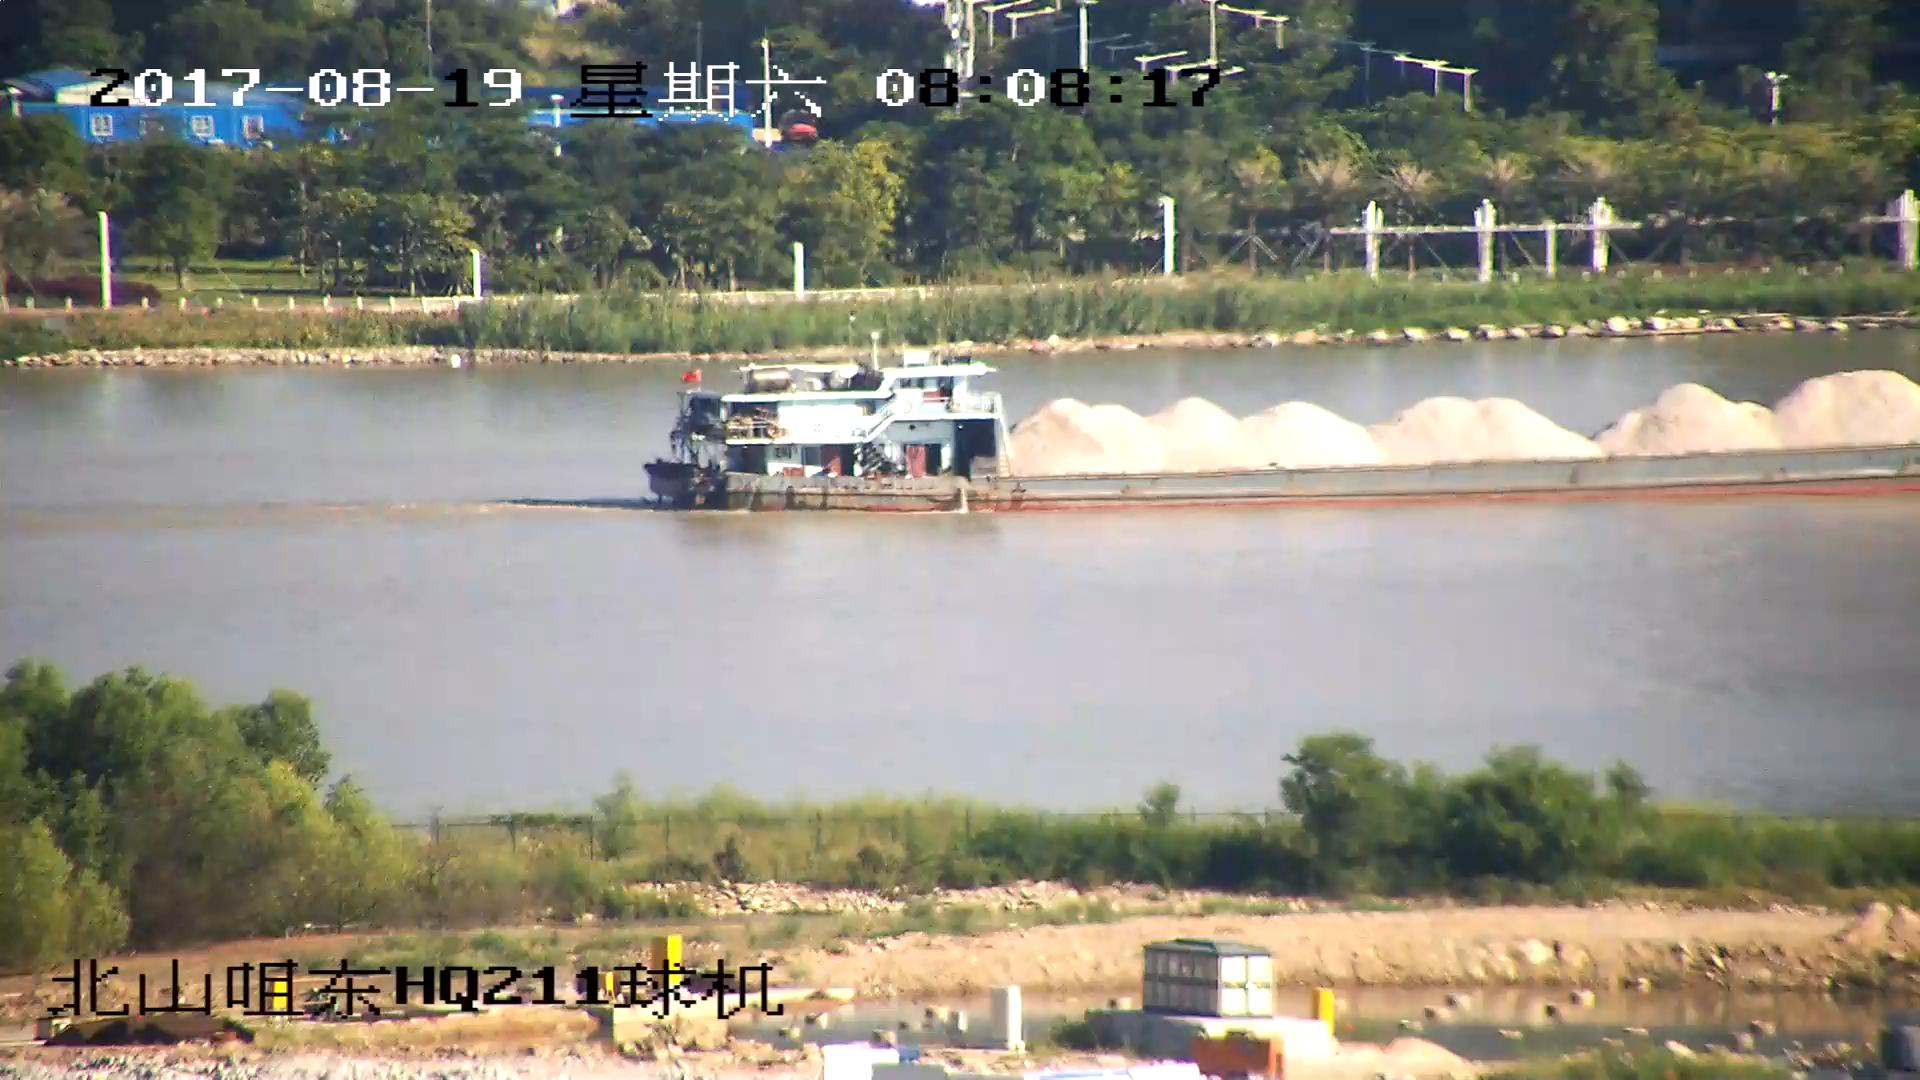ore carrier: (644, 335, 1920, 513)
